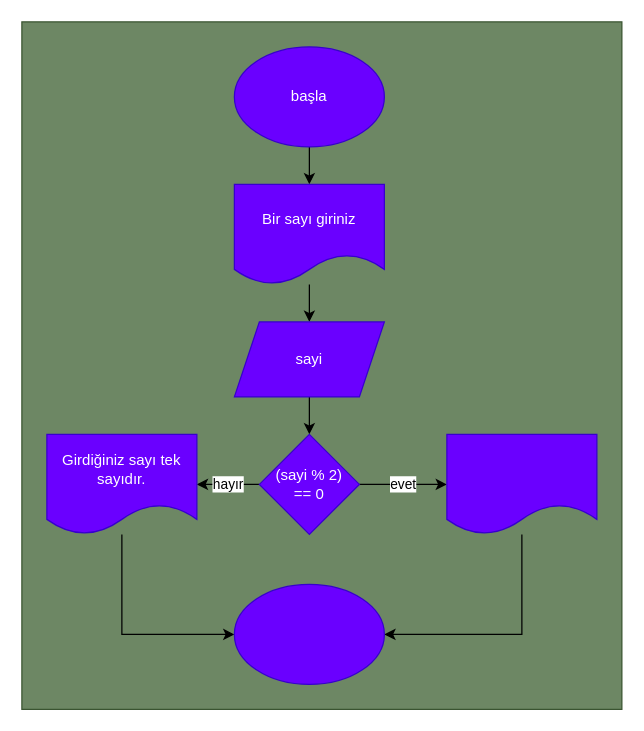
This 644x731 diagram has some shape labels left out. The box of each missing label's shape, as (x1, y1, x2, y2) in pixels:
bitir: (233, 583, 384, 684)
Girdiğiniz sayı çift sayıdır.: (446, 433, 597, 534)
